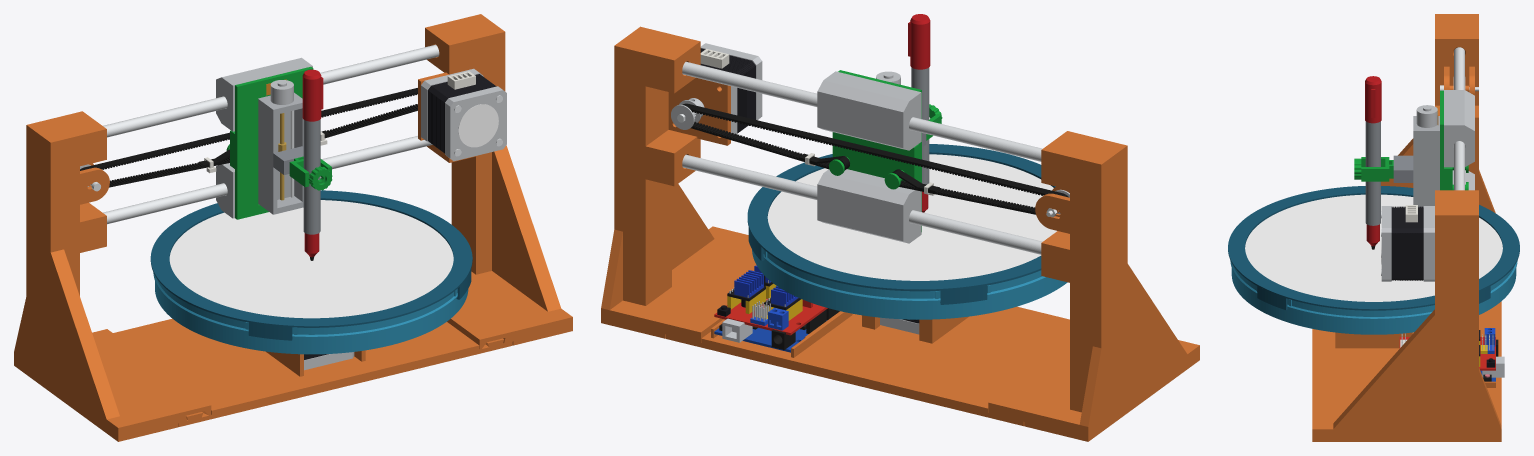
File: plotter-v2.glb
The picture shows the model from 3 angles, left to right: view 1: azimuth 30°, elevation 25°; view 2: azimuth 150°, elevation 25°; view 3: azimuth 270°, elevation 25°; orthographic projection. The views are drawn at different scales.
Visible parts, largest first — view 1: stand_left, paper__sheet, stand_right, frame_base, clamp_ring, wheel, rods, carriage_plate, stage__frame, x_belt__belt, x_motor__caps, blocks (+5 smaller); view 2: stand_left, stand_right, frame_base, paper__sheet, blocks, wheel, rods, clamp_ring, x_belt__belt, carriage_plate, pen__cap, x_motor__body (+8 smaller); view 3: stand_right, paper__sheet, clamp_ring, wheel, frame_base, stand_left, x_motor__body, blocks, stage__frame, x_motor__caps, pen__body, x_motor__core (+7 smaller).
Part boxes in pixels (x1=…): stand_left: x1=14, y1=111, x2=211, y2=441; paper__sheet: x1=169, y1=200, x2=453, y2=318; stand_right: x1=418, y1=14, x2=572, y2=349; frame_base: x1=113, y1=318, x2=512, y2=427; clamp_ring: x1=150, y1=190, x2=472, y2=340; wheel: x1=153, y1=272, x2=468, y2=354; rods: x1=103, y1=44, x2=439, y2=224; carriage_plate: x1=226, y1=66, x2=313, y2=219; stage__frame: x1=258, y1=92, x2=303, y2=214; x_belt__belt: x1=80, y1=88, x2=417, y2=187; x_motor__caps: x1=421, y1=68, x2=506, y2=161; blocks: x1=216, y1=57, x2=312, y2=218; stand_left: x1=988, y1=131, x2=1199, y2=441; stand_right: x1=601, y1=26, x2=756, y2=342; frame_base: x1=665, y1=306, x2=1069, y2=426; paper__sheet: x1=767, y1=154, x2=1056, y2=280; blocks: x1=817, y1=71, x2=921, y2=243; wheel: x1=752, y1=249, x2=1067, y2=319; rods: x1=682, y1=61, x2=1042, y2=254; clamp_ring: x1=747, y1=144, x2=1055, y2=304; x_belt__belt: x1=683, y1=103, x2=1068, y2=214; carriage_plate: x1=829, y1=70, x2=921, y2=231; pen__cap: x1=908, y1=14, x2=930, y2=212; x_motor__body: x1=700, y1=48, x2=755, y2=133; stand_right: x1=1312, y1=190, x2=1501, y2=441; paper__sheet: x1=1245, y1=194, x2=1502, y2=301; clamp_ring: x1=1228, y1=186, x2=1519, y2=310; wheel: x1=1230, y1=260, x2=1517, y2=334; frame_base: x1=1312, y1=301, x2=1501, y2=387; stand_left: x1=1381, y1=14, x2=1495, y2=213; x_motor__body: x1=1391, y1=206, x2=1423, y2=280; blocks: x1=1444, y1=90, x2=1474, y2=190; stage__frame: x1=1413, y1=116, x2=1439, y2=207; x_motor__caps: x1=1381, y1=206, x2=1434, y2=281; pen__body: x1=1365, y1=121, x2=1380, y2=225; x_motor__core: x1=1392, y1=207, x2=1423, y2=279.
Bounding box in the file's own units: 340 × 206 × 208.
